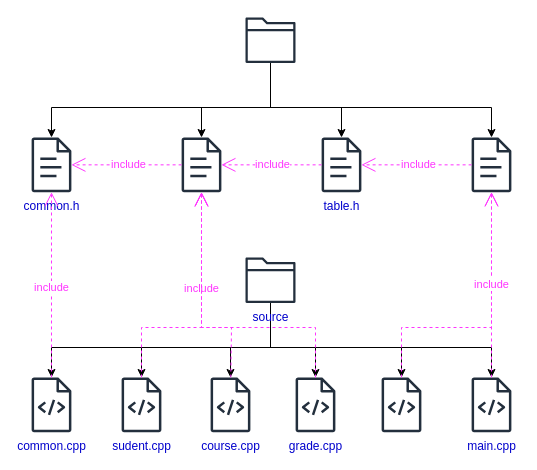
The diagram is 537 pixels wide and 470 high, and some of its shapes have lost their labels. The box of each missing label's shape, as (x1, y1, x2, y2) in pixels:
header: (245, 17, 295, 62)
manager.cpp: (381, 377, 421, 432)
manager.h: (471, 137, 511, 192)
record: (181, 137, 221, 192)
